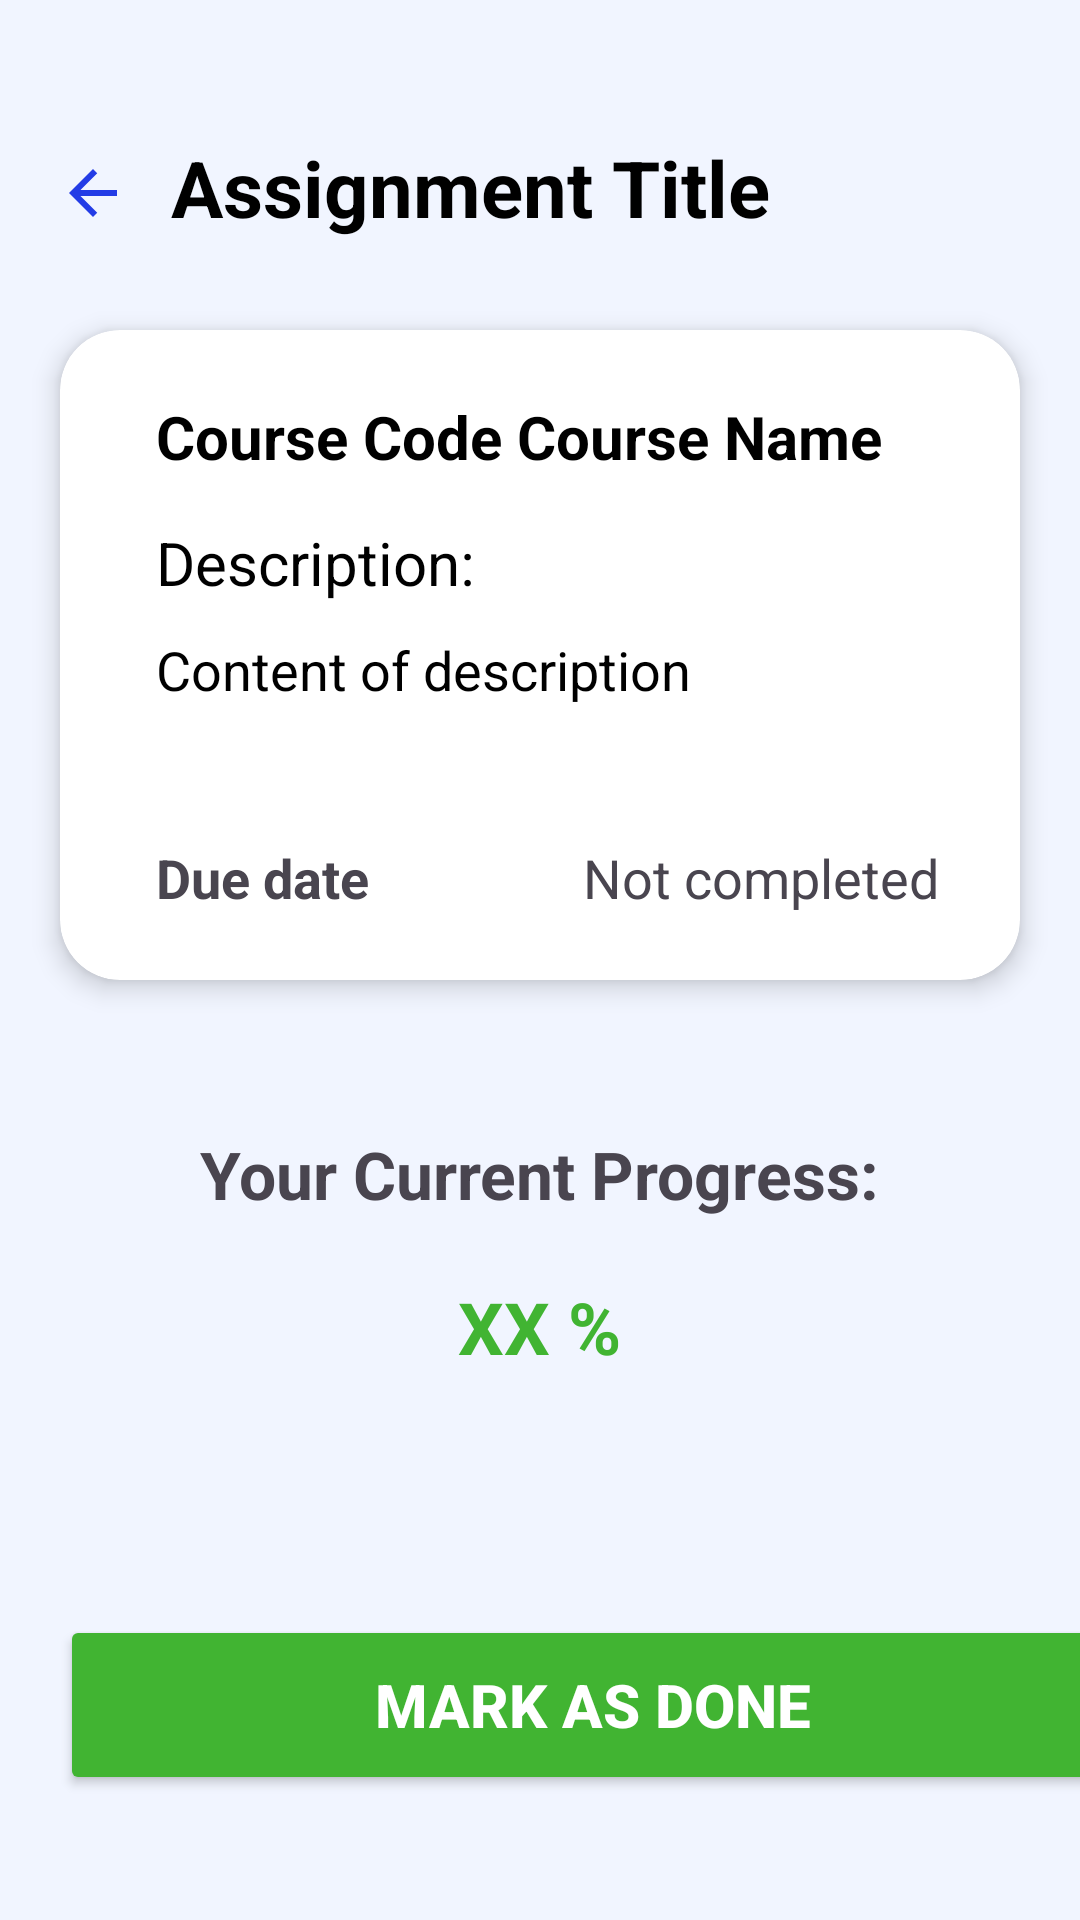

Named icons in this screenshot (1080*1920) and their bounding boxes, (x1, y1, x2, y2):
arrow back: (69, 169, 117, 217)
